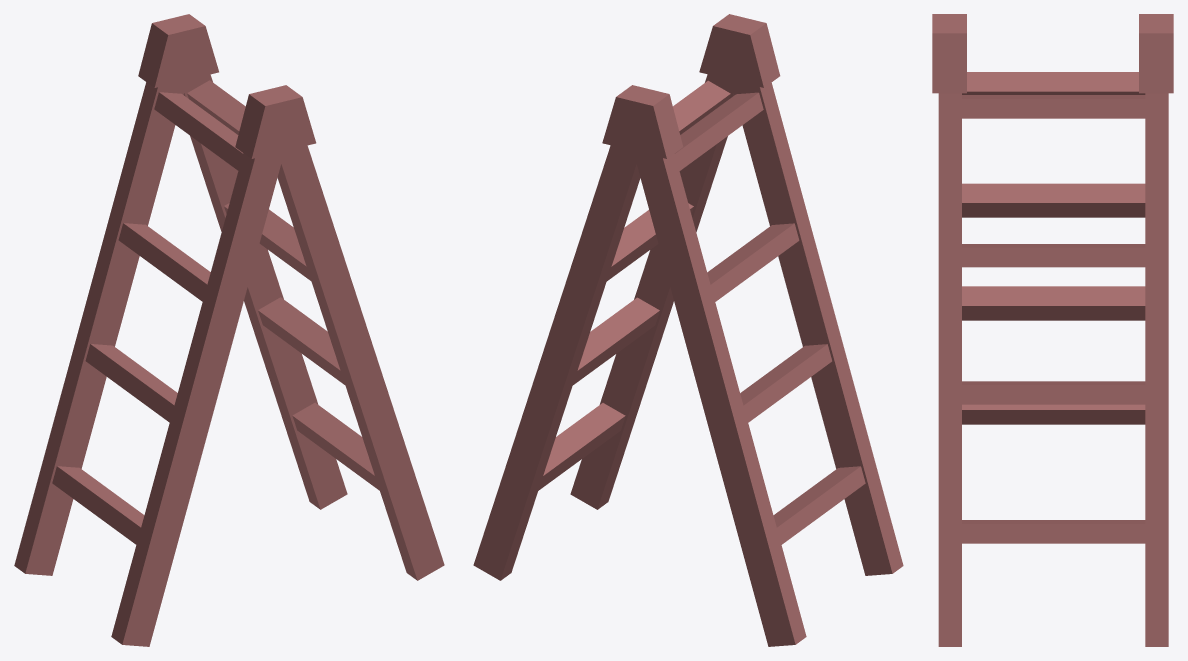
File: Ladder.fbx
The picture shows the model from 3 angles, left to right: view 1: azimuth 30°, elevation 25°; view 2: azimuth 150°, elevation 25°; view 3: azimuth 270°, elevation 25°; orthographic projection. The views are drawn at different scales.
Visible parts, largest first — view 1: Ladder; view 2: Ladder; view 3: Ladder.
Boxes of the visible parts, left/top/right/bottom form: Ladder: left=14, top=14, right=444, bottom=646; Ladder: left=473, top=14, right=903, bottom=646; Ladder: left=932, top=14, right=1173, bottom=646.
Bounding box in the file's own units: 78.72 × 120 × 47.96.
